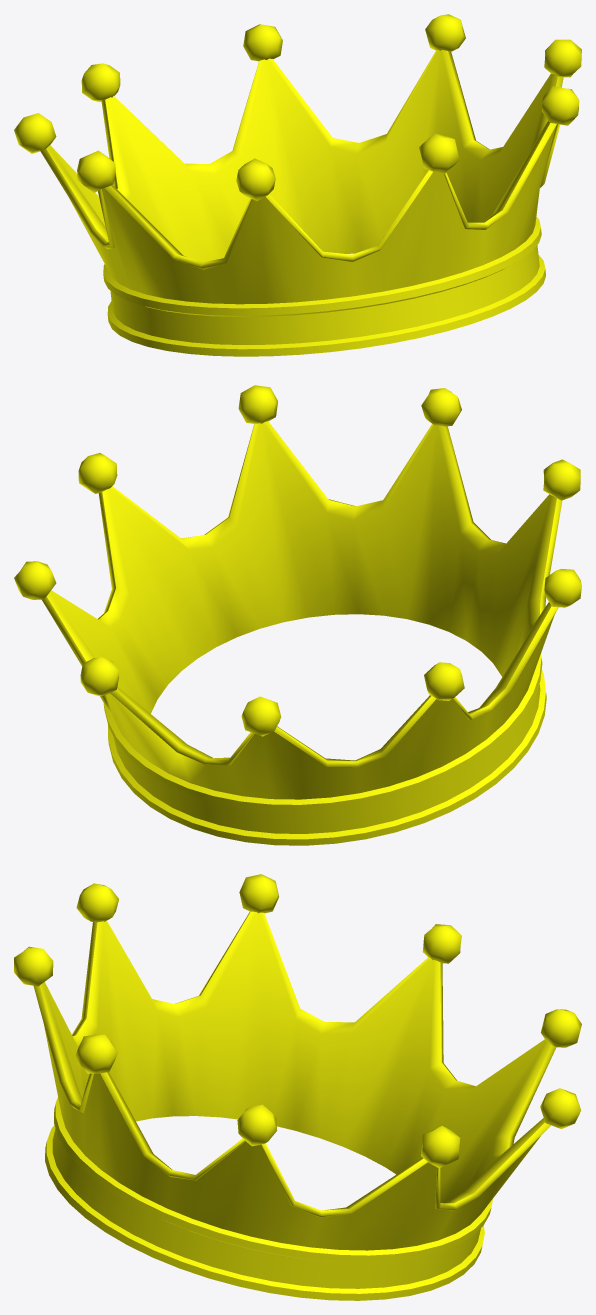
File: Hat_36_02.fbx
3 renders of one model, top to bottom at view 1: azimuth 30°, elevation 25°; view 2: azimuth 150°, elevation 25°; view 3: azimuth 270°, elevation 25°, orthographic.
Visible parts, largest first — view 1: Hat_36_02; view 2: Hat_36_02; view 3: Hat_36_02.
Part boxes in pixels (<box>): Hat_36_02: <box>14,14,581,356</box>; Hat_36_02: <box>14,385,581,845</box>; Hat_36_02: <box>14,874,581,1300</box>.
Size of the model in its own units: 48.35 by 26.27 by 46.62.
